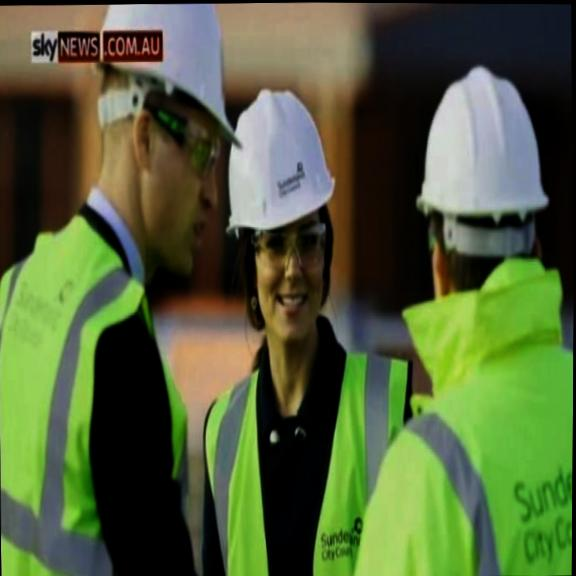safety_vest: (0, 238, 190, 576), (395, 321, 574, 576), (205, 376, 391, 576)
